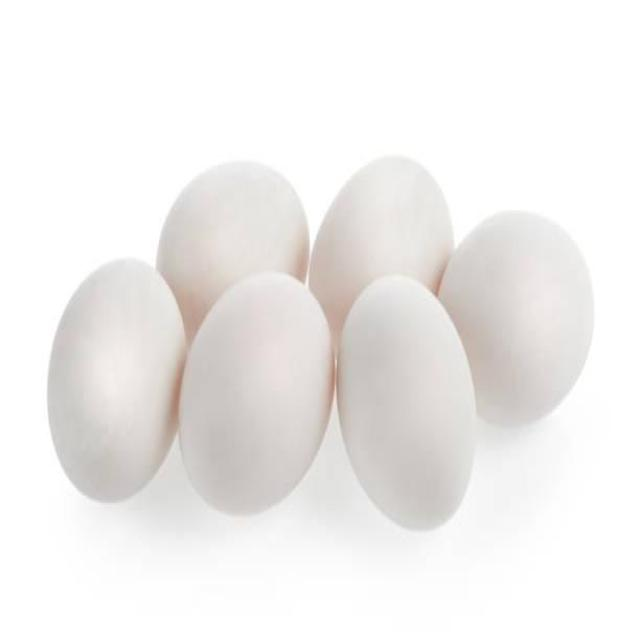Egg: (180, 272, 333, 512), (338, 278, 476, 527), (48, 259, 185, 499), (438, 210, 593, 422), (157, 161, 308, 340), (310, 154, 453, 343)
